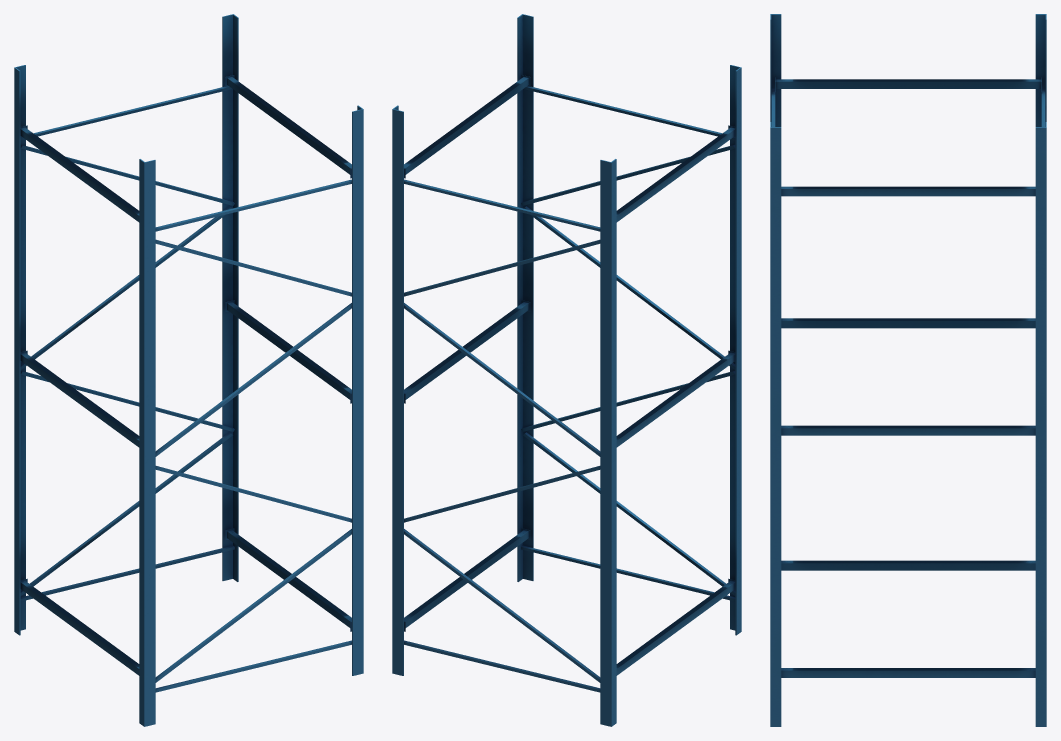
File: shelves.serva.151.obj
3 renders of one model, left to right at view 1: azimuth 30°, elevation 25°; view 2: azimuth 150°, elevation 25°; view 3: azimuth 270°, elevation 25°, orthographic. The views are drawn at different scales.
Visible parts, largest first — view 1: huojia1; view 2: huojia1; view 3: huojia1.
Part boxes in pixels (left/top/right/bottom): huojia1: left=14, top=14, right=363, bottom=726; huojia1: left=392, top=14, right=741, bottom=726; huojia1: left=770, top=14, right=1046, bottom=726.
Bounding box in the file's own units: 130 × 320 × 134.
